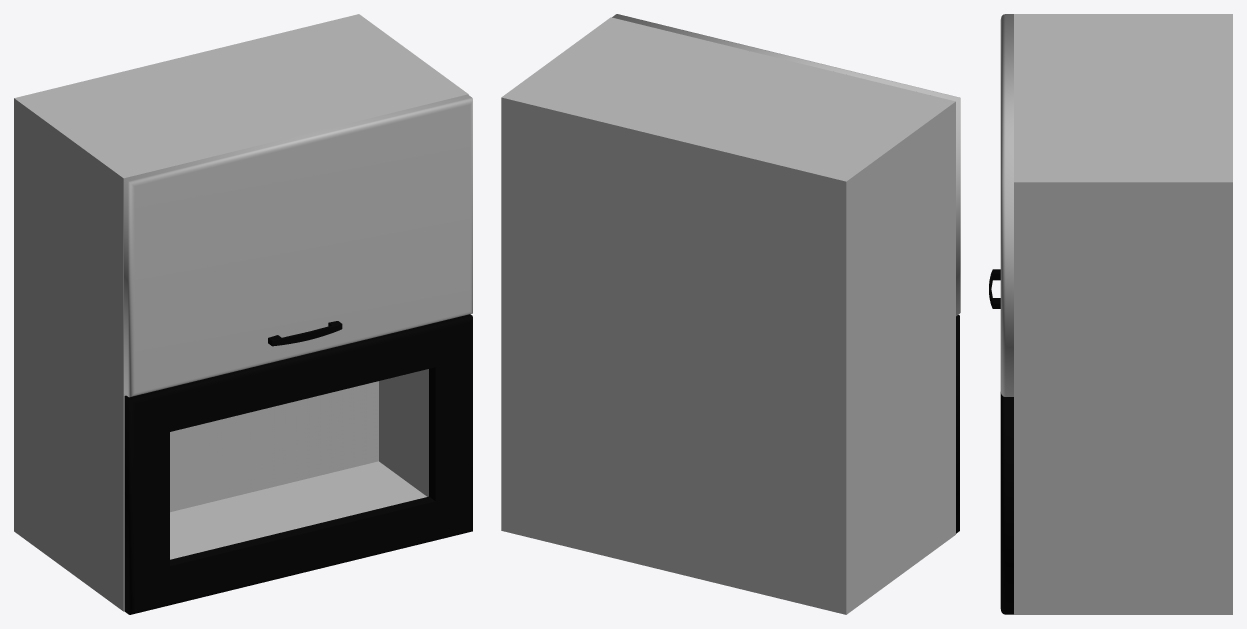
The model's file is malm60.glb.
The picture shows the model from 3 angles, left to right: view 1: azimuth 30°, elevation 25°; view 2: azimuth 150°, elevation 25°; view 3: azimuth 270°, elevation 25°; orthographic projection.
Visible parts, largest first — view 1: Box033, Box034, Box035, Obj3d66-503491-2-358; view 2: Box033, Box034, Box035; view 3: Box033, Box034, Box035.
Boxes of the visible parts, x1,y1,x2,y2 form: Box033: (14, 14, 468, 611); Box034: (124, 94, 472, 397); Box035: (124, 314, 472, 614); Obj3d66-503491-2-358: (268, 321, 342, 346); Box033: (501, 17, 955, 614); Box034: (612, 14, 960, 316); Box035: (956, 315, 959, 533); Box033: (1014, 14, 1232, 614); Box034: (1000, 14, 1013, 396); Box035: (1000, 392, 1013, 614).
Size of the model in its own units: 0.6 by 0.72 by 0.3677.
Materials: 3 (1 with a texture image).
